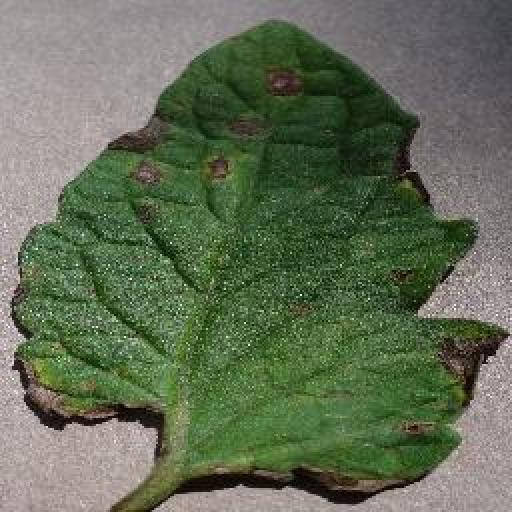disease_tomato: (13, 15, 508, 500)
